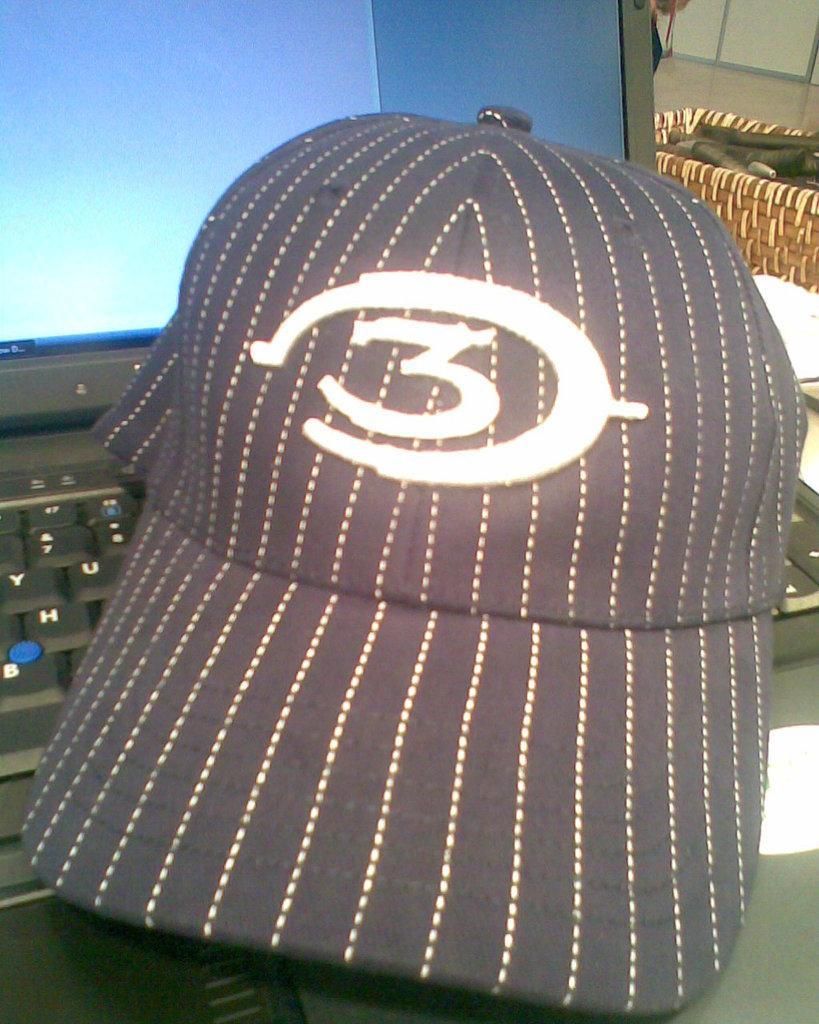Hat: (16, 108, 810, 1020)
